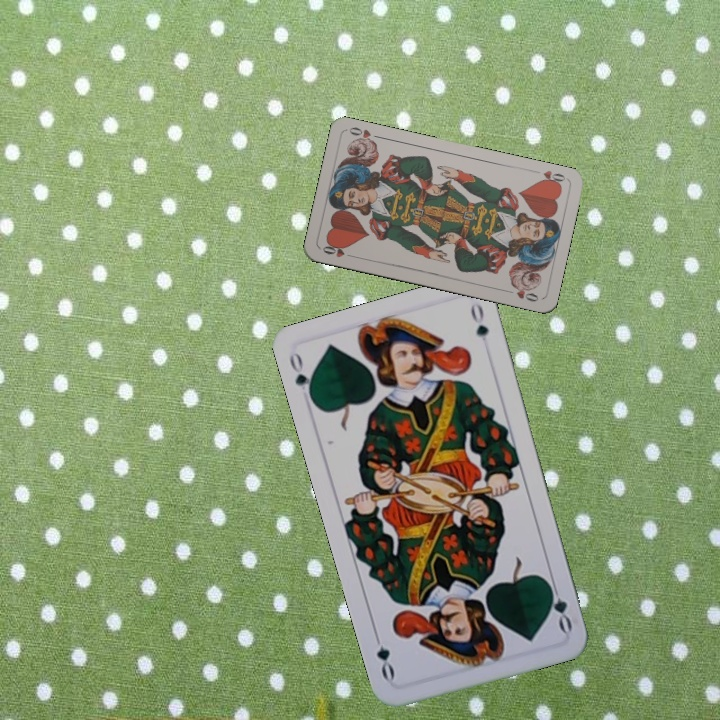GO: (542, 576, 575, 635), (285, 349, 317, 405)
HO: (529, 166, 569, 189), (318, 240, 358, 260)
